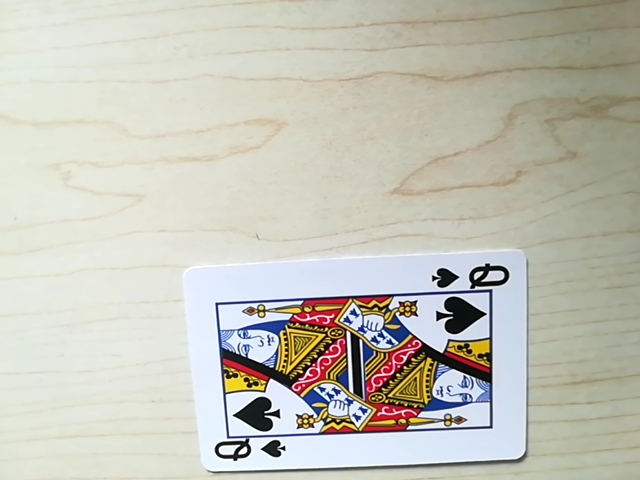ht q: (429, 261, 510, 291), (209, 436, 282, 469)
